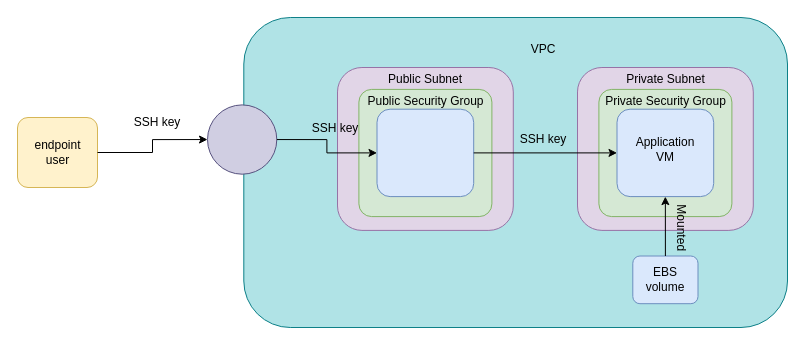
Image size: 805x345. Some labels were removed from this diagram. Each missing label, with the centre of its shape:
"Bastion Host" goes at point (425, 152).
"Default Gateaway" goes at point (241, 139).
